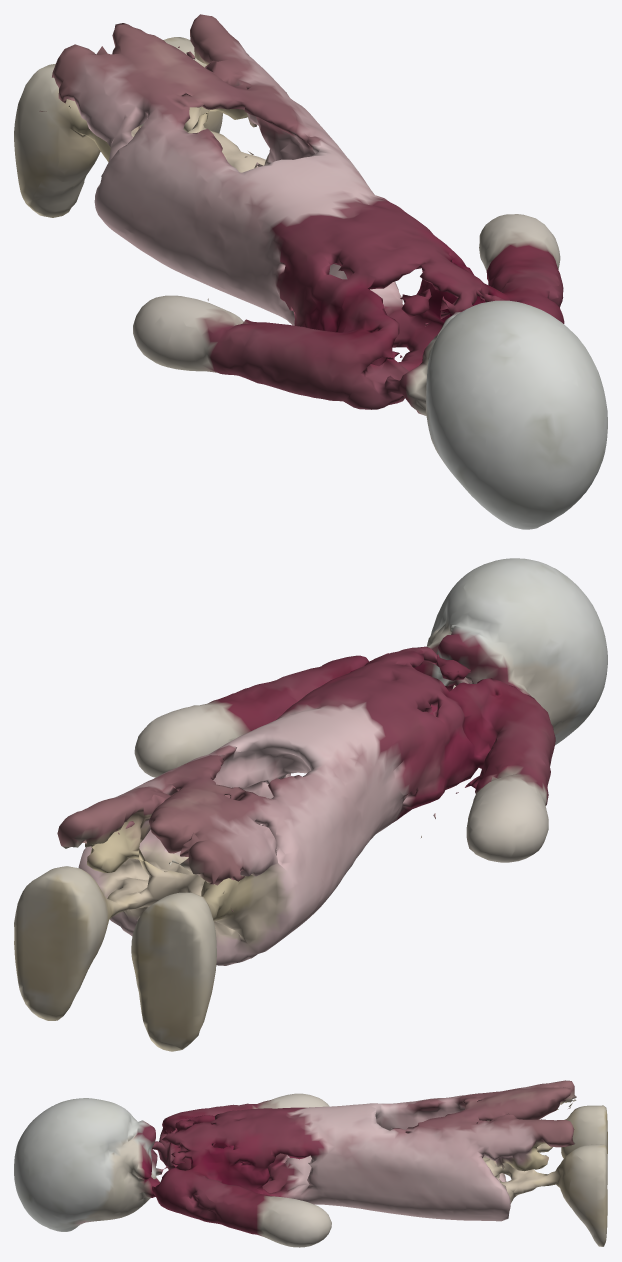
File: grandmother.glb
3 views of the same model, one above another, from view 1: azimuth 30°, elevation 25°; view 2: azimuth 150°, elevation 25°; view 3: azimuth 270°, elevation 25° (orthographic). The views are drawn at different scales.
Bounding box in the file's own units: 0.5127 × 0.2593 × 0.9992.
